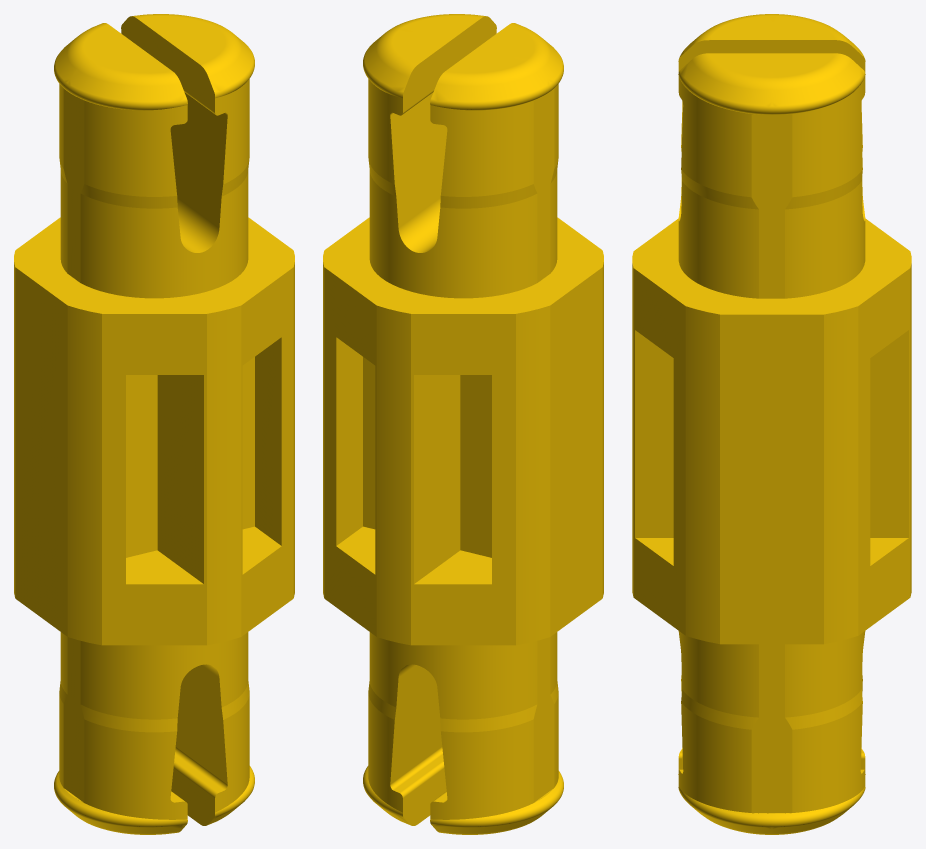
The picture shows the model from 3 angles, left to right: view 1: azimuth 30°, elevation 25°; view 2: azimuth 150°, elevation 25°; view 3: azimuth 270°, elevation 25°; orthographic projection.
Visible parts, largest first — view 1: 228-2500-2268; view 2: 228-2500-2268; view 3: 228-2500-2268.
Part boxes in pixels (x1,y1,x2,y2): 228-2500-2268: (14,14,294,834); 228-2500-2268: (323,14,603,834); 228-2500-2268: (632,14,911,834).
Bounding box in the file's own units: 0.0058 × 0.0186 × 0.00624.
